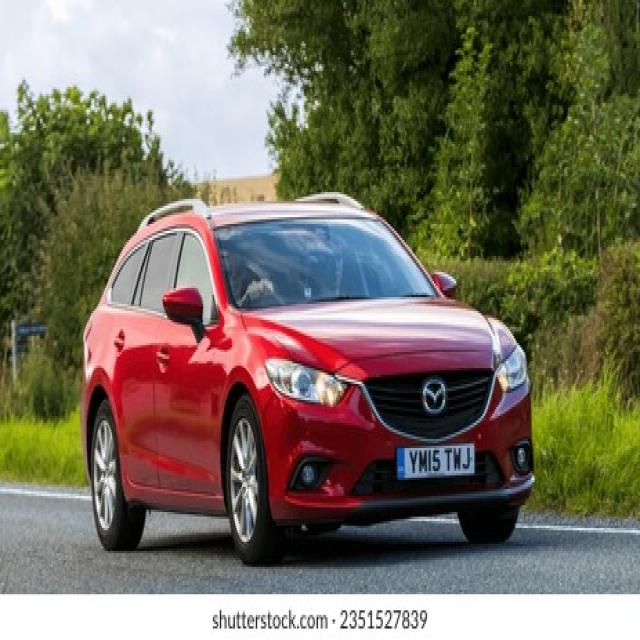mazda: (422, 379, 447, 413)
